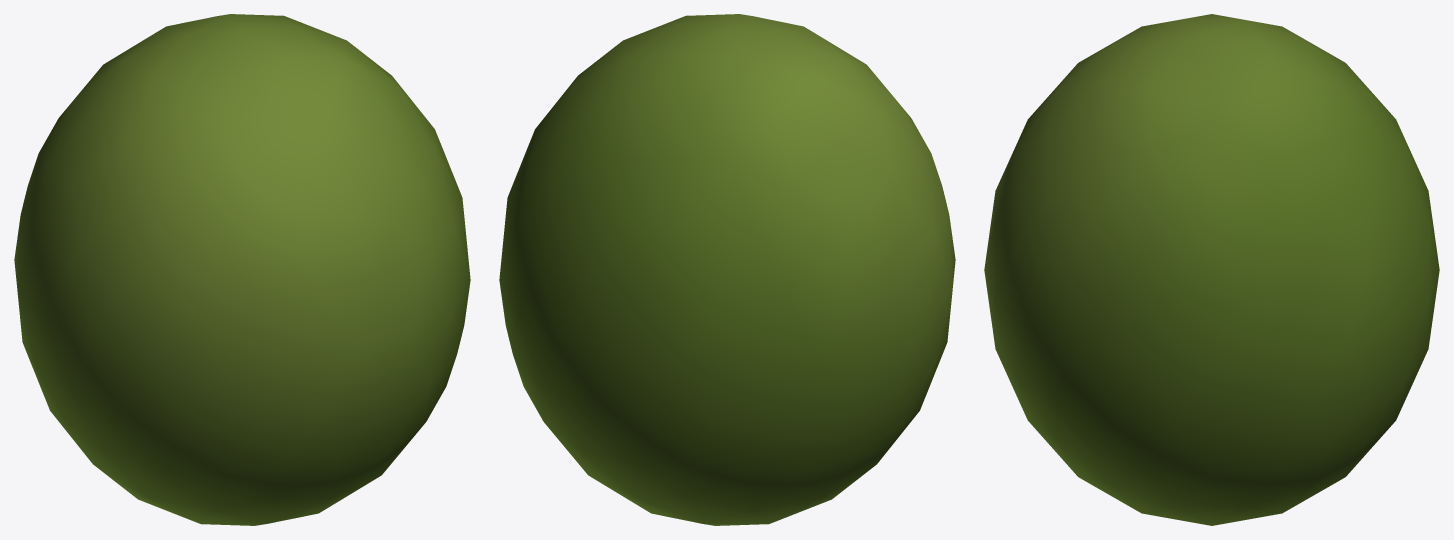
The model's file is fruit_coconut.glb.
3 views of the same model, side by side, from view 1: azimuth 30°, elevation 25°; view 2: azimuth 150°, elevation 25°; view 3: azimuth 270°, elevation 25° (orthographic).
Parts seen in each view (by area): view 1: fruit_coconut; view 2: fruit_coconut; view 3: fruit_coconut.
Part boxes in pixels (box(x1,y1,x2,y2)): fruit_coconut: box(14, 14, 470, 525); fruit_coconut: box(499, 14, 955, 525); fruit_coconut: box(984, 14, 1439, 525).
Bounding box in the file's own units: 0.26 × 0.3 × 0.26.
